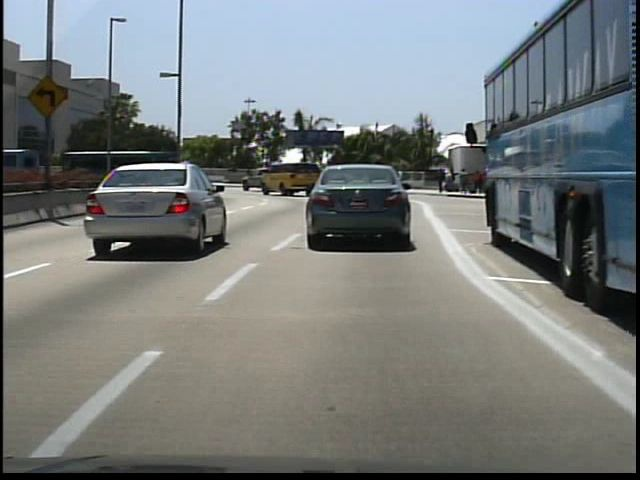person: (469, 167, 487, 197), (455, 165, 469, 197), (242, 164, 258, 189), (434, 168, 447, 195)
